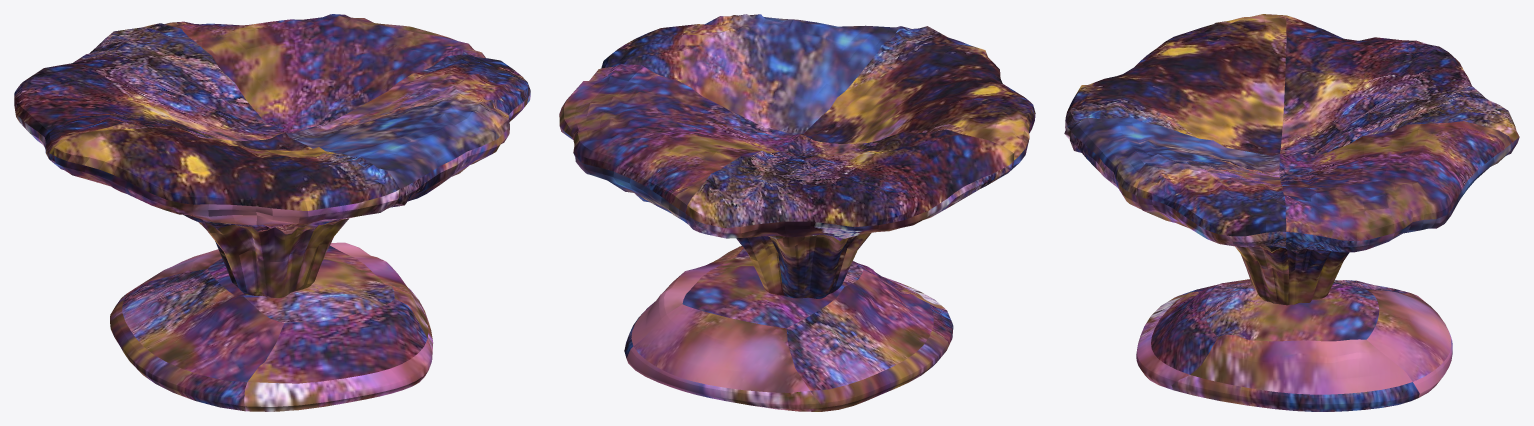
File: mesacoral.obj
3 views of the same model, side by side, from view 1: azimuth 30°, elevation 25°; view 2: azimuth 150°, elevation 25°; view 3: azimuth 270°, elevation 25° (orthographic). The views are drawn at different scales.
Visible parts, largest first — view 1: mesacoral:_Table_Coral_v2; view 2: mesacoral:_Table_Coral_v2; view 3: mesacoral:_Table_Coral_v2.
Part boxes in pixels (x1=…): mesacoral:_Table_Coral_v2: x1=14, y1=14, x2=530, y2=411; mesacoral:_Table_Coral_v2: x1=559, y1=14, x2=1035, y2=411; mesacoral:_Table_Coral_v2: x1=1064, y1=14, x2=1519, y2=411.
Size of the model in its own units: 2.2 by 1.26 by 2.1.
Materials: 1 (1 with a texture image).
